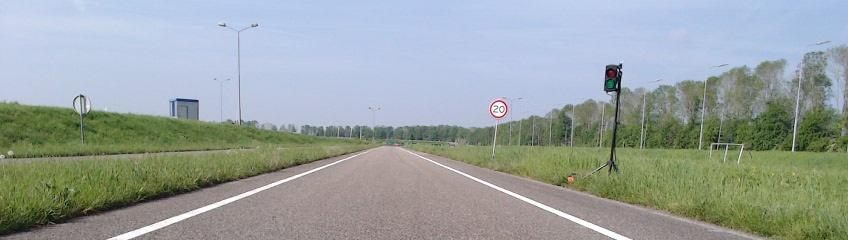Speed-limit-20km-h-: (489, 99, 509, 119)
TrafficLight-green: (604, 65, 618, 92)
